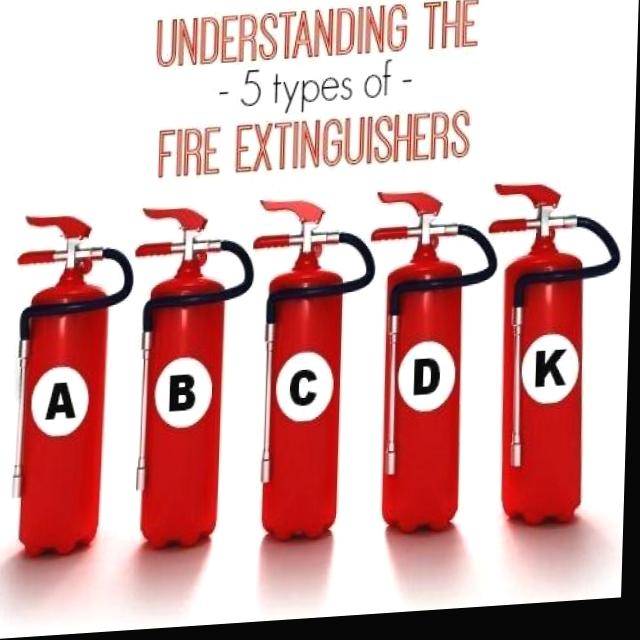FireExtinguisher: (480, 180, 625, 539), (3, 206, 139, 565), (242, 195, 378, 551), (364, 189, 500, 545), (125, 199, 260, 557)
